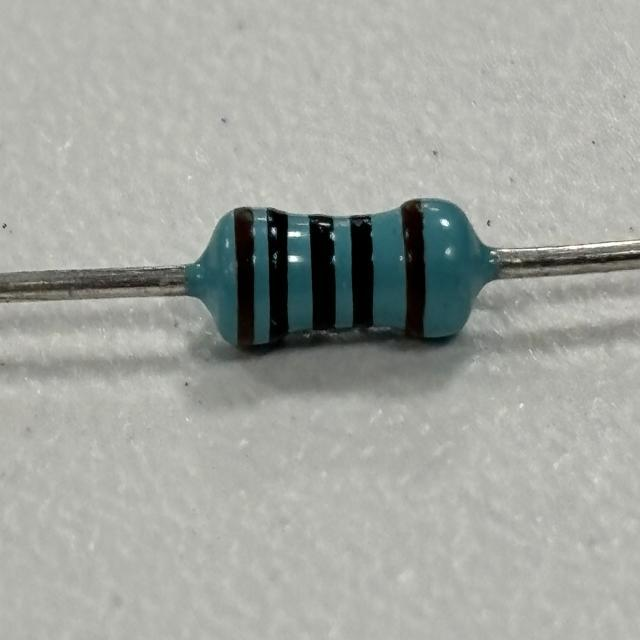resistor: (216, 193, 463, 354)
